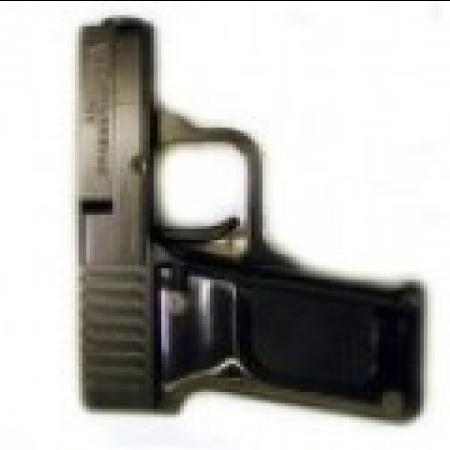Pistol: (64, 17, 416, 419)
